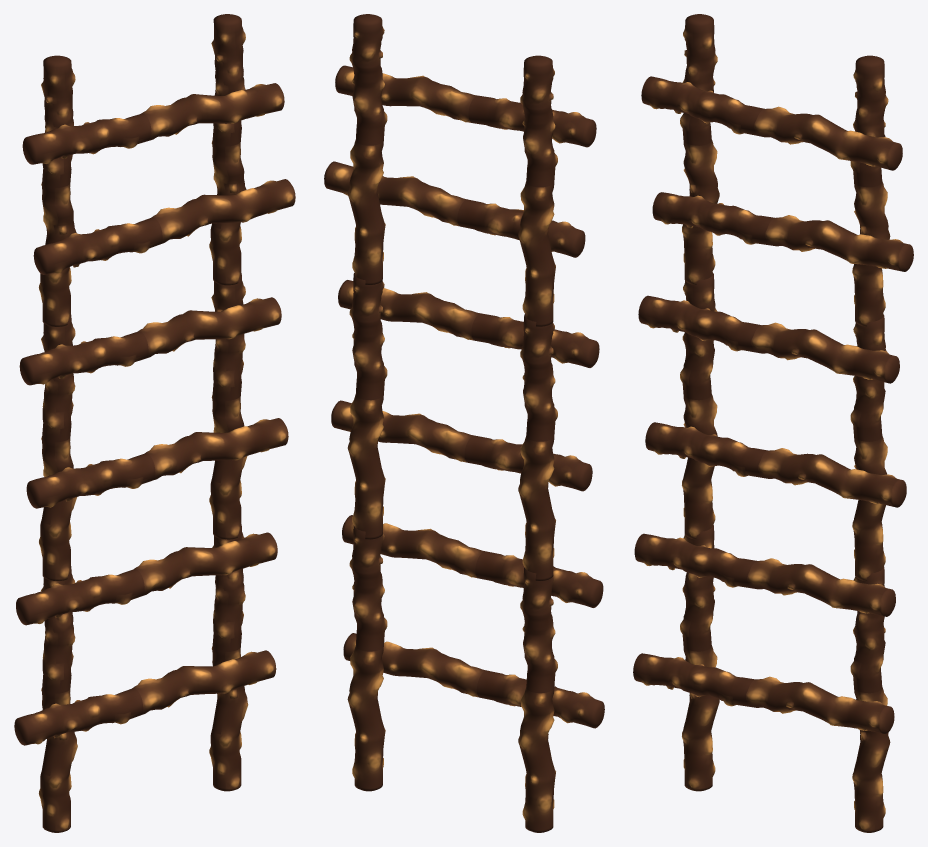
File: koeda hashigo-3.fbx
The picture shows the model from 3 angles, left to right: view 1: azimuth 30°, elevation 25°; view 2: azimuth 150°, elevation 25°; view 3: azimuth 330°, elevation 25°; orthographic projection.
Parts seen in each view (by area): view 1: pCylinder18; view 2: pCylinder18; view 3: pCylinder18.
Part boxes in pixels (bbox=[...]): pCylinder18: bbox=[14, 14, 295, 832]; pCylinder18: bbox=[324, 14, 604, 832]; pCylinder18: bbox=[633, 14, 913, 832].
Bounding box in the file's own units: 53.09 × 144 × 10.06.
